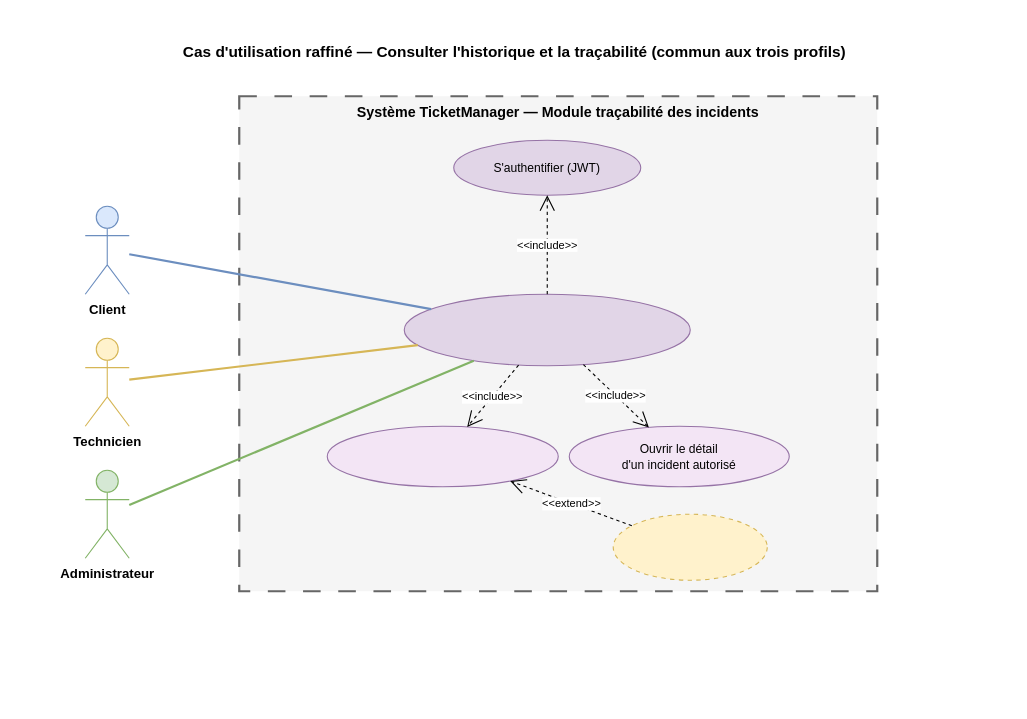
Image size: 1027x719. Some labels were removed from this diagram. Each missing label, with the centre of its shape:
"Afficher la chronologie des actions enregistrées" goes at pixel 442 456.
"Aucun historique disponible" goes at pixel 689 546.
"Consulter l'historique et la traçabilité d'un incident" goes at pixel 546 329.
